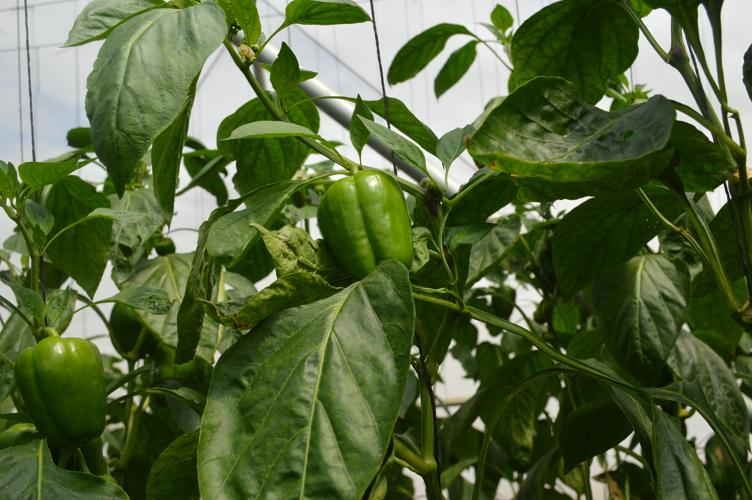BellPepper: (10, 338, 106, 447), (318, 169, 409, 276)
